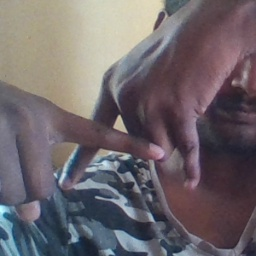H: (48, 63, 208, 204)
